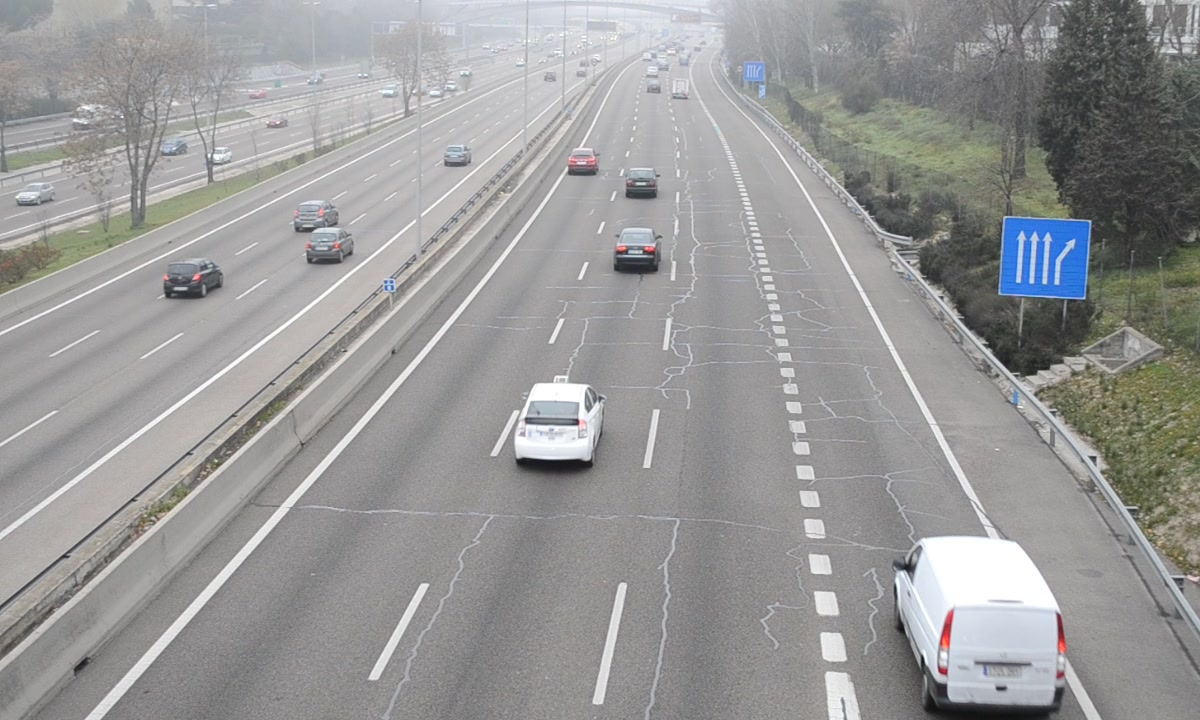car: (514, 383, 606, 464), (614, 226, 660, 265), (625, 167, 659, 199), (566, 147, 597, 176)
van: (894, 536, 1066, 718)
